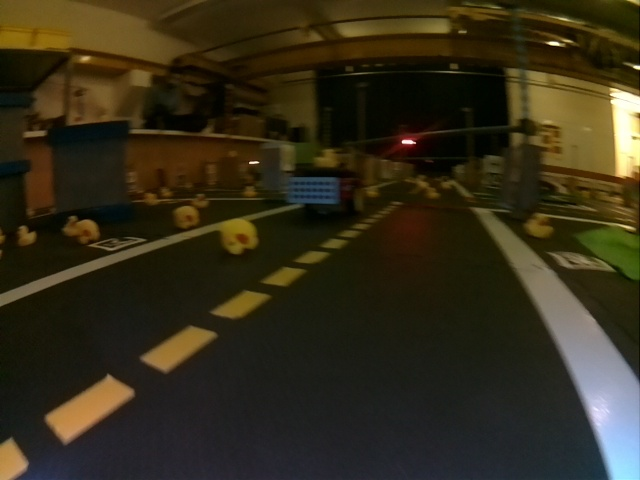Duckie: (219, 219, 258, 254), (524, 213, 553, 237), (174, 206, 199, 229), (76, 220, 100, 241), (15, 225, 37, 246), (314, 148, 339, 166), (62, 216, 78, 236), (192, 193, 208, 207), (145, 193, 159, 205), (243, 186, 258, 197), (427, 187, 439, 199)
Duckiebot: (288, 169, 362, 216)
QR code: (551, 253, 614, 271), (89, 235, 146, 252)
